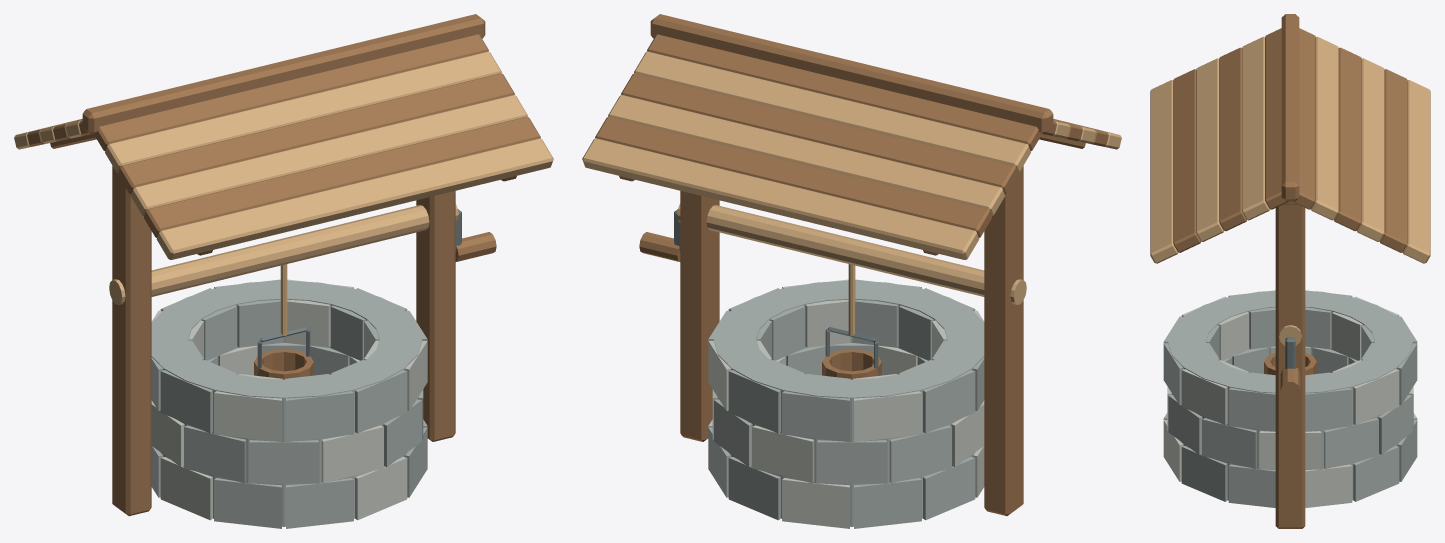
The picture shows the model from 3 angles, left to right: view 1: azimuth 30°, elevation 25°; view 2: azimuth 150°, elevation 25°; view 3: azimuth 270°, elevation 25°; orthographic projection. The views are drawn at different scales.
Parts seen in each view (by area): view 1: village-stone-well-01; view 2: village-stone-well-01; view 3: village-stone-well-01.
Boxes of the visible parts, bbox=[...] form: village-stone-well-01: bbox=[14, 14, 553, 528]; village-stone-well-01: bbox=[582, 14, 1121, 528]; village-stone-well-01: bbox=[1150, 14, 1430, 528].
Size of the model in its own units: 2.35 by 2.26 by 1.59.
